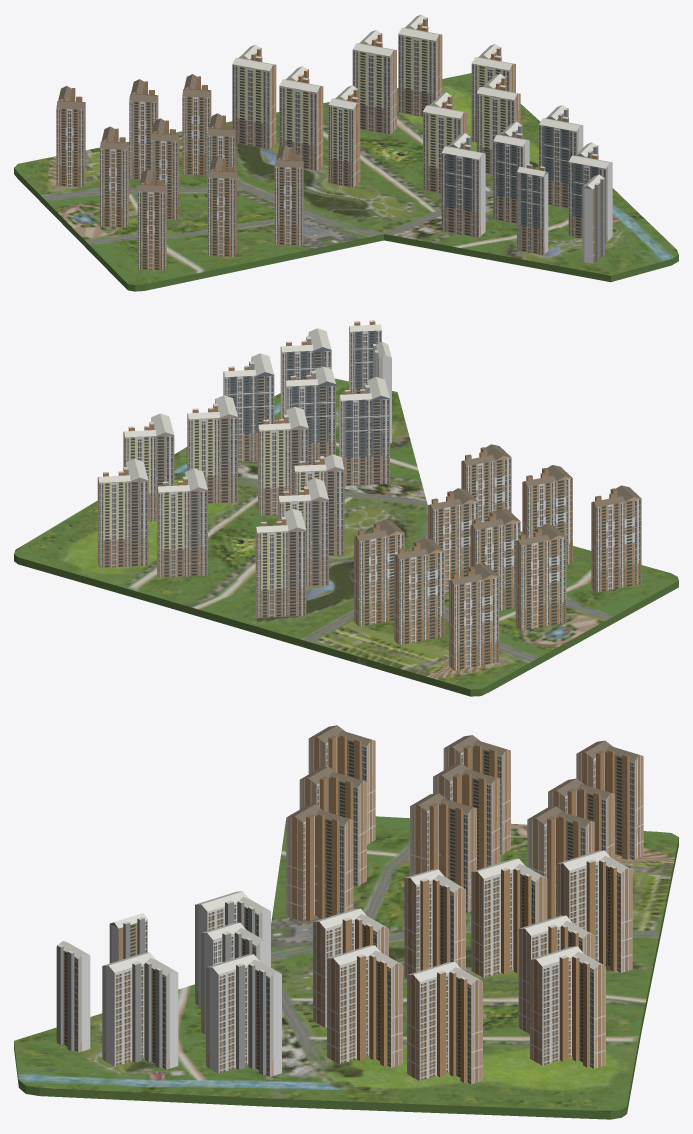
File: ICJ00104_A.glb
3 views of the same model, one above another, from view 1: azimuth 30°, elevation 25°; view 2: azimuth 150°, elevation 25°; view 3: azimuth 270°, elevation 25° (orthographic). The views are drawn at different scales.
Parts seen in each view (by area): view 1: MainBuilding; view 2: MainBuilding; view 3: MainBuilding.
Part boxes in pixels (left/top/right/bottom): MainBuilding: left=14, top=14, right=678, bottom=291; MainBuilding: left=14, top=320, right=678, bottom=696; MainBuilding: left=14, top=725, right=678, bottom=1119.
Bounding box in the file's own units: 3636 × 631 × 3413.
Materials: 1 (1 with a texture image).
